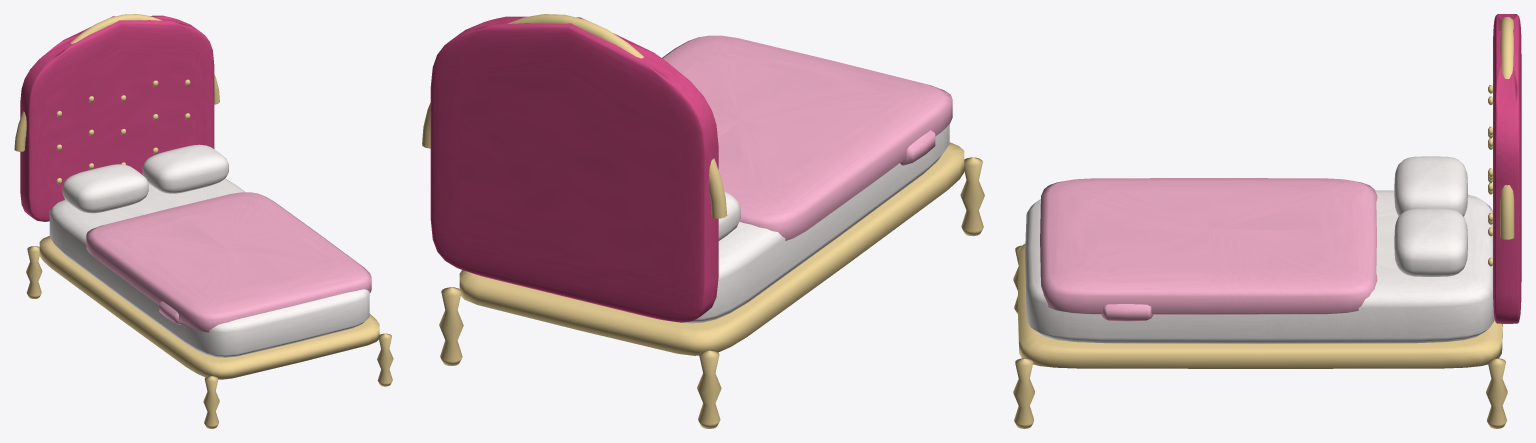
File: citadel_party_bed.glb
3 renders of one model, left to right at view 1: azimuth 30°, elevation 25°; view 2: azimuth 150°, elevation 25°; view 3: azimuth 270°, elevation 25°, orthographic. The views are drawn at different scales.
Visible parts, largest first — view 1: Velvet_Pink, Satin_Blush2, Linen_White, Gilt; view 2: Velvet_Pink, Satin_Blush2, Gilt, Linen_White; view 3: Satin_Blush2, Linen_White, Gilt, Velvet_Pink.
Part boxes in pixels (x1,y1,x2,y2): Velvet_Pink: (20,15,214,221); Satin_Blush2: (86,192,371,332); Linen_White: (49,144,369,357); Gilt: (14,14,393,428); Velvet_Pink: (430,16,718,322); Satin_Blush2: (662,35,952,240); Gilt: (422,14,984,428); Linen_White: (671,124,949,323); Satin_Blush2: (1040,178,1377,321); Linen_White: (1025,156,1494,343); Gilt: (1013,17,1514,428); Velvet_Pink: (1493,14,1521,323).
Bounding box in the file's own units: 1.53 × 1.83 × 2.47.
4 materials, 3 textured.
